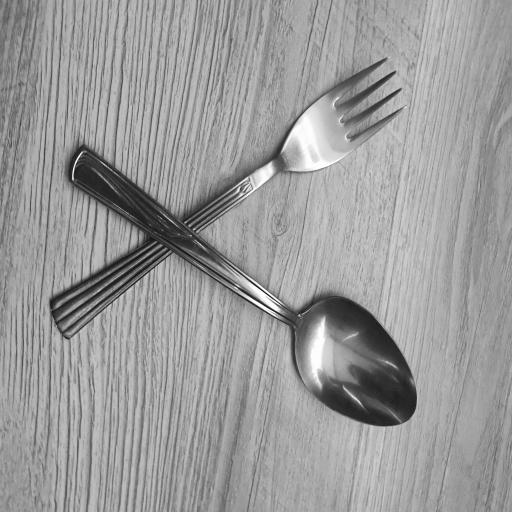fork: (52, 56, 410, 339)
spoon: (75, 141, 420, 427)
